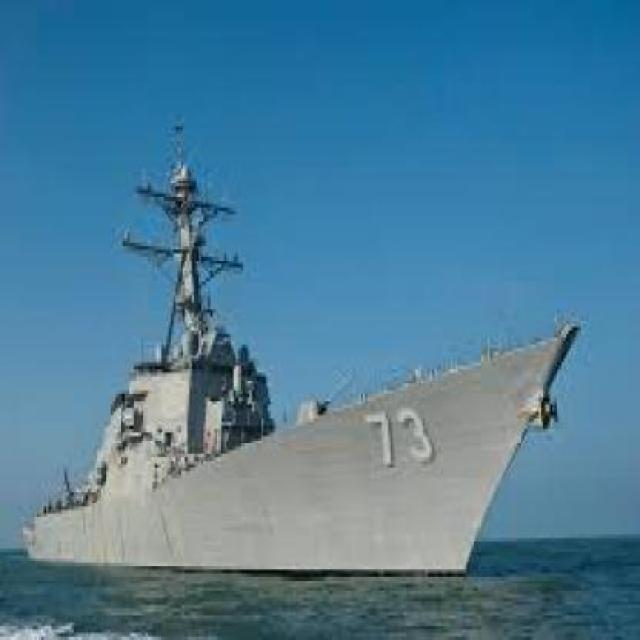warship2: (13, 107, 593, 618)
